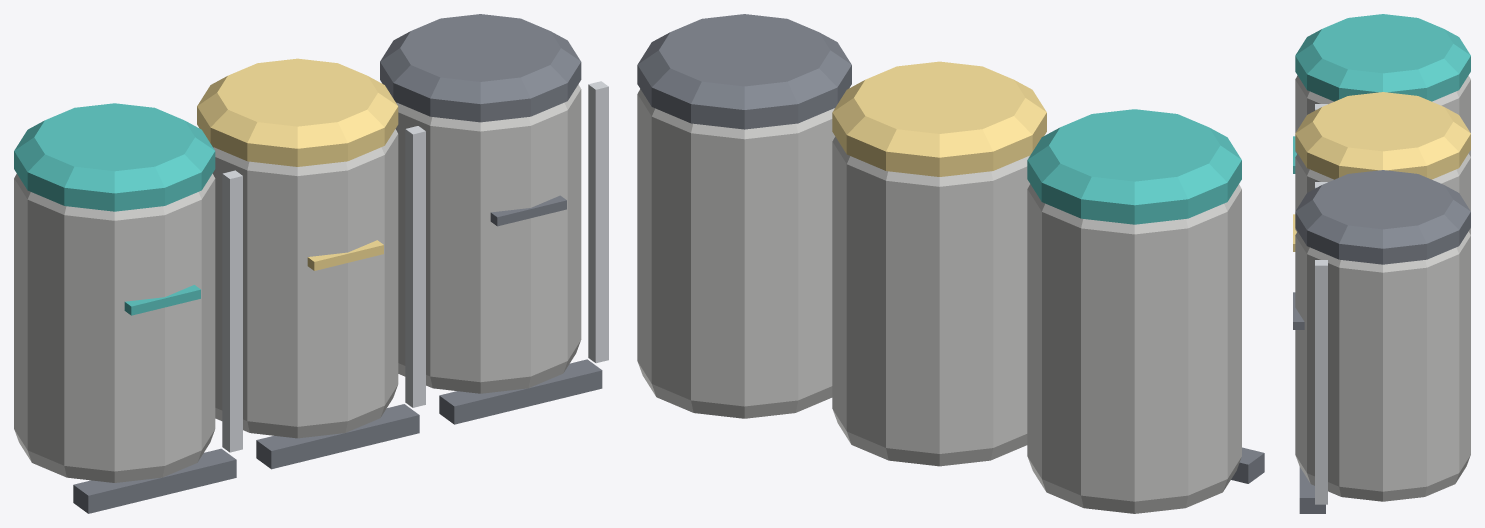
The model's file is medical-23647.glb.
The picture shows the model from 3 angles, left to right: view 1: azimuth 30°, elevation 25°; view 2: azimuth 150°, elevation 25°; view 3: azimuth 270°, elevation 25°; orthographic projection. The views are drawn at different scales.
Visible parts, largest first — view 1: waste-bin-set; view 2: waste-bin-set; view 3: waste-bin-set.
Boxes of the visible parts, box(x1,y1,x2,y2) form: waste-bin-set: box(14, 14, 608, 513); waste-bin-set: box(637, 14, 1264, 513); waste-bin-set: box(1293, 14, 1470, 513).
Bounding box in the file's own units: 1.25 × 0.71 × 0.4051.
